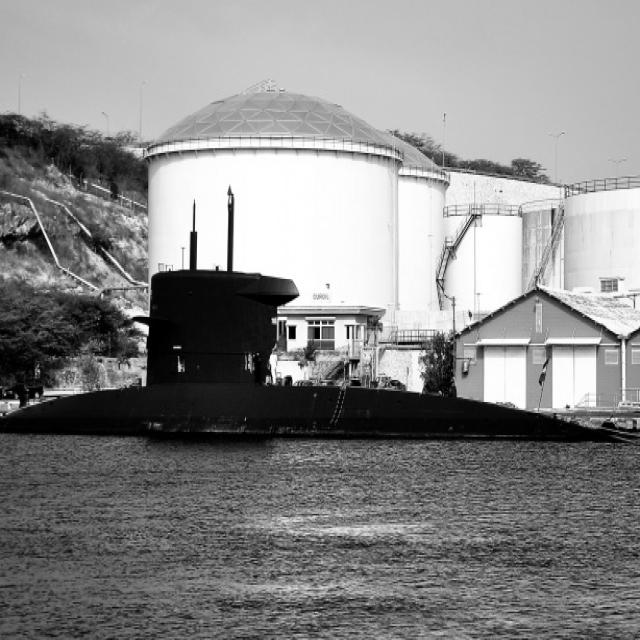submarine: (1, 174, 640, 433)
